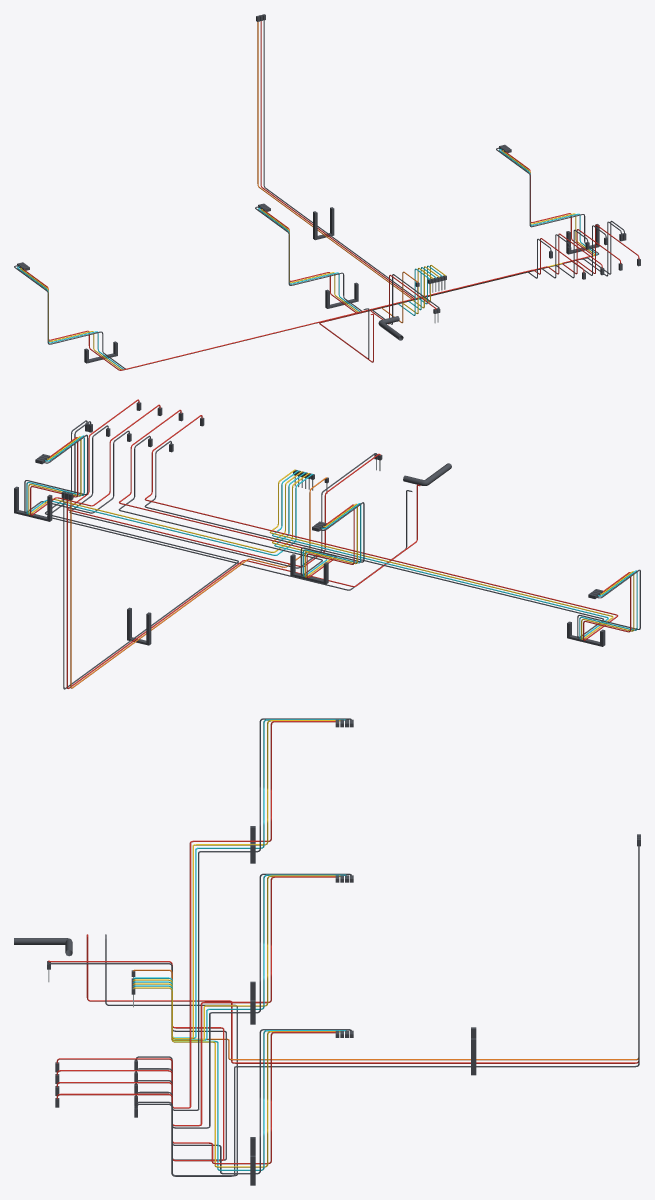
File: cabos.glb
3 renders of one model, top to bottom at view 1: azimuth 30°, elevation 25°; view 2: azimuth 150°, elevation 25°; view 3: azimuth 270°, elevation 25°, orthographic. The views are drawn at different scales.
Visible parts, largest first — view 1: HC_A_VCC, SERVO_GND, SERVO_POS, SERVO_SIGNAL, HC_B_GND; view 2: HC_A_VCC, HC_A_GND, SERVO_GND, HC_A_ECHO, SERVO_POS, HC_A_TRIG, HC_C_ECHO, SERVO_SIGNAL, HC_B_GND, HC_B_VCC, UNO_5V_BARRAMENTO, HC_C_TRIG (+6 smaller); view 3: SERVO_GND, HC_A_VCC, SERVO_POS, HC_B_VCC, HC_A_GND, HC_A_TRIG, UNO_5V_BARRAMENTO, SERVO_SIGNAL, HC_A_ECHO, HC_C_VCC, HC_B_GND, HC_C_TRIG (+6 smaller).
Part boxes in pixels (x1,y1,x2,y2): HC_A_VCC: (23,238,584,370); SERVO_GND: (263,20,624,297); SERVO_POS: (260,21,413,362); SERVO_SIGNAL: (257,22,417,323); HC_B_GND: (255,206,569,311); HC_A_VCC: (144,415,631,640); HC_A_GND: (144,440,640,638); SERVO_GND: (45,420,238,689); HC_A_ECHO: (272,470,637,639); SERVO_POS: (66,484,420,688); HC_A_TRIG: (269,469,634,639); HC_C_ECHO: (26,435,313,555); SERVO_SIGNAL: (70,477,327,688); HC_B_GND: (118,435,364,575); HC_B_VCC: (119,409,354,578); UNO_5V_BARRAMENTO: (68,399,380,567); HC_C_TRIG: (28,436,309,552); SERVO_GND: (135,846,639,1176); HC_A_VCC: (56,721,335,1108); SERVO_POS: (86,934,638,1063); HC_B_VCC: (56,876,335,1126); HC_A_GND: (135,718,351,1110); HC_A_TRIG: (133,720,340,1039); UNO_5V_BARRAMENTO: (48,960,224,1161); SERVO_SIGNAL: (133,969,638,1060); HC_A_ECHO: (133,719,345,1038); HC_C_VCC: (56,1031,335,1164); HC_B_GND: (135,873,351,1128); HC_C_TRIG: (133,979,340,1167).
Size of the model in its own units: 0.455 by 0.1393 by 0.3411.
